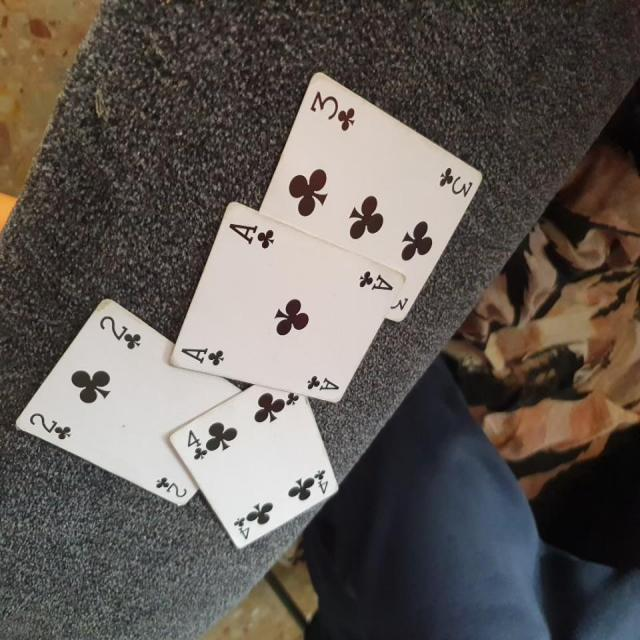2 Trefoils: (14, 294, 243, 507)
3 Trefoils: (259, 70, 484, 321)
4 Trefoils: (168, 382, 339, 550)
A Trefoils: (170, 201, 407, 404)
